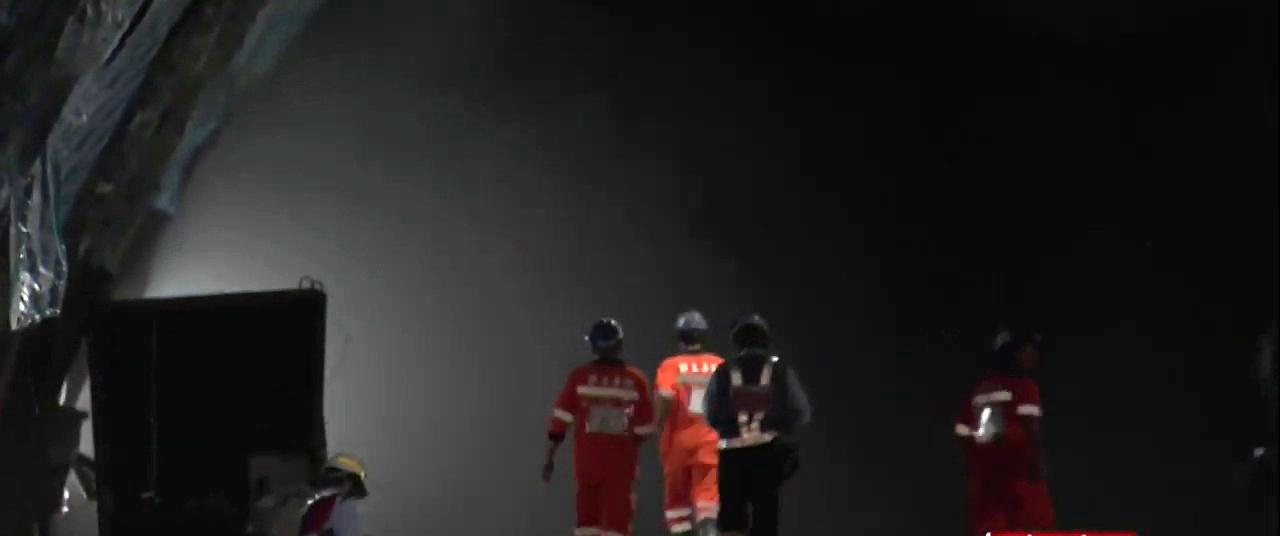helmet: (993, 328, 1042, 374), (729, 312, 771, 352), (587, 317, 624, 360), (674, 307, 709, 346)
